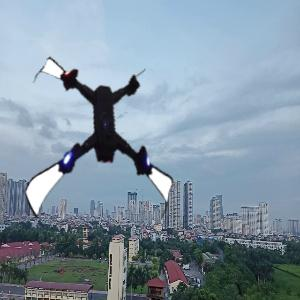drone: (23, 62, 190, 229)
